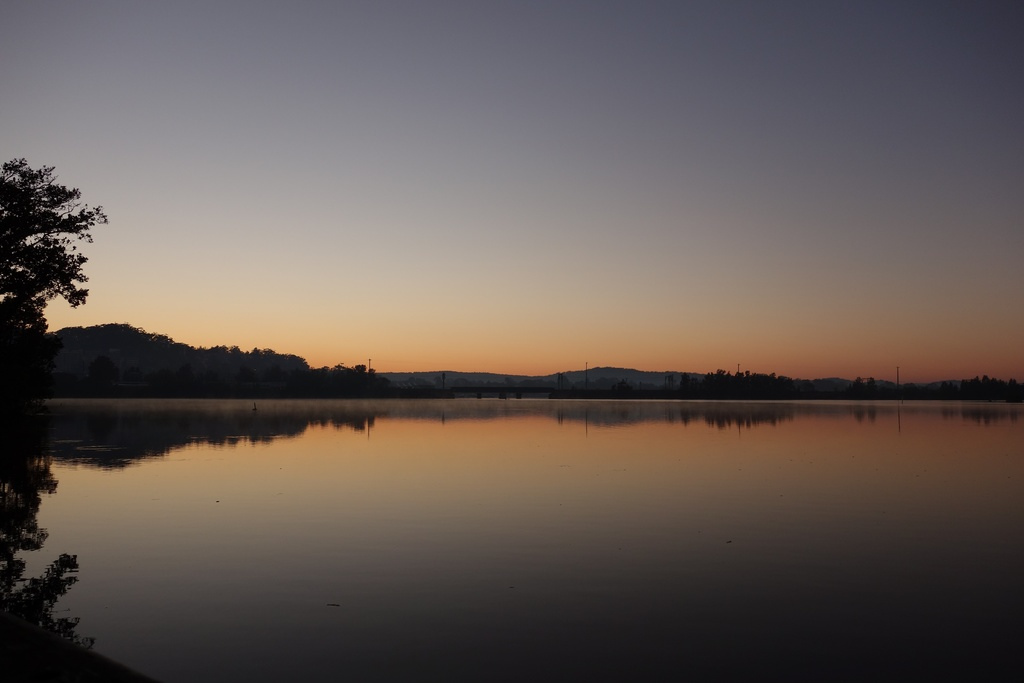Tree: (11, 138, 100, 388)
